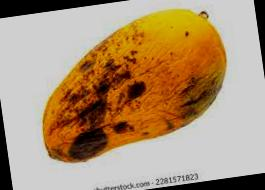Mango Overripe: (14, 0, 248, 177)
